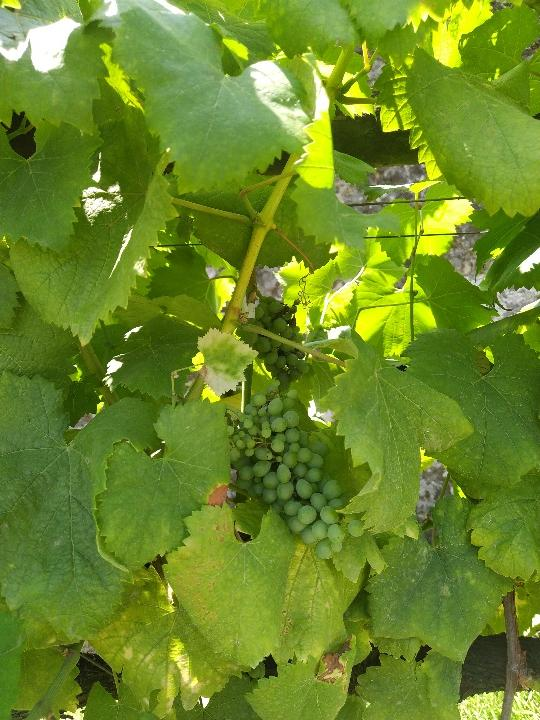grape: (224, 387, 368, 561), (233, 293, 312, 389)
